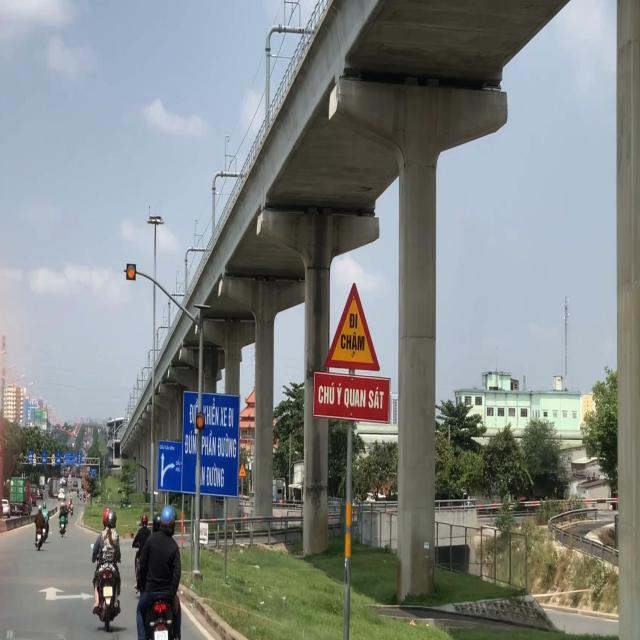Nguy hiem: (324, 280, 381, 372)
